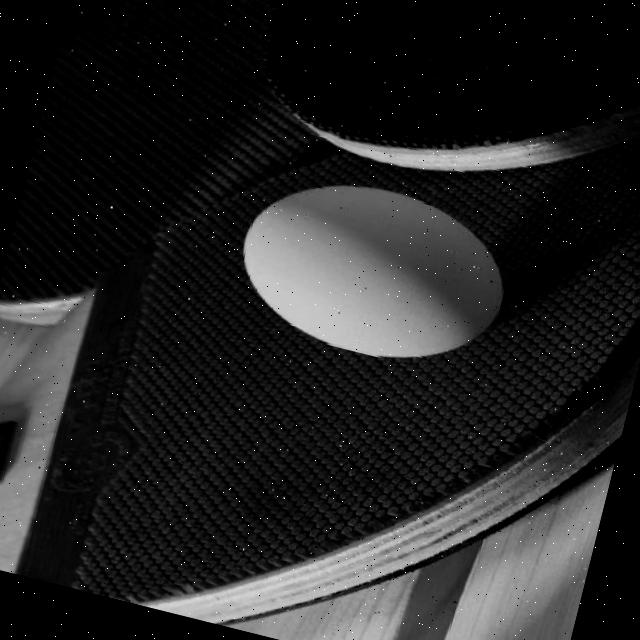ping-pong-ball: (218, 152, 526, 386)
